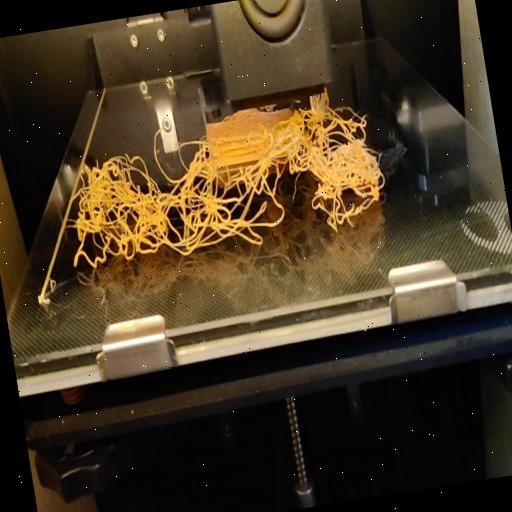spaghetti: (53, 84, 394, 272)
